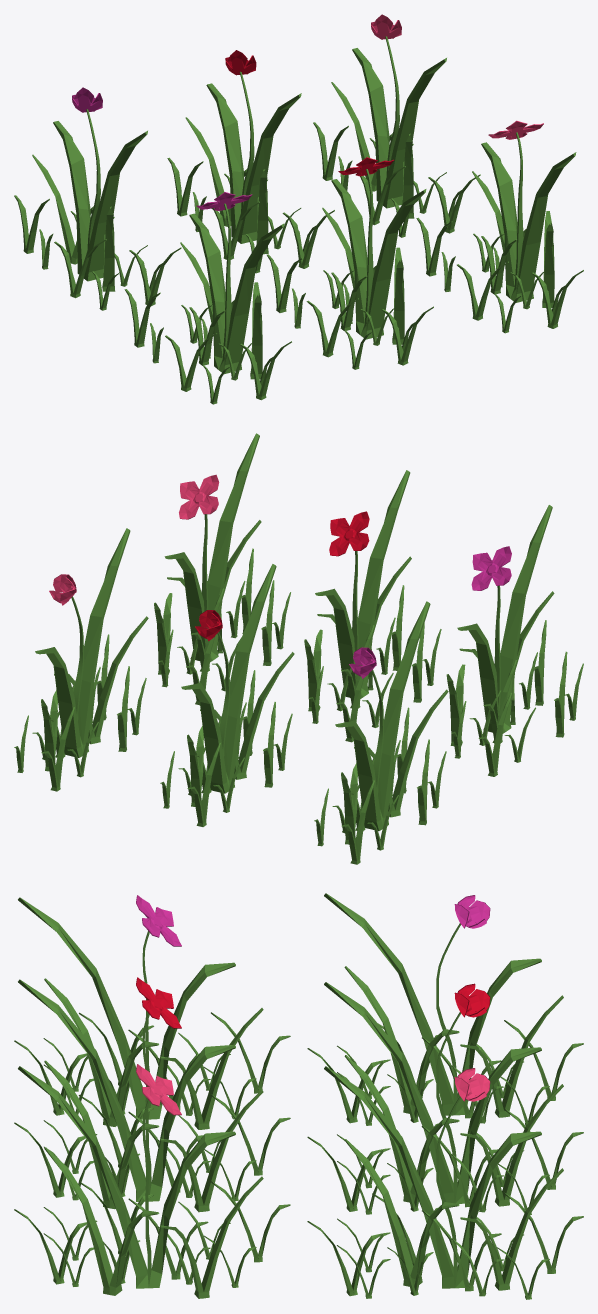
The model's file is SM_grass_flowers_DE.fbx.
3 views of the same model, one above another, from view 1: azimuth 30°, elevation 25°; view 2: azimuth 150°, elevation 25°; view 3: azimuth 270°, elevation 25° (orthographic). The views are drawn at different scales.
Parts seen in each view (by area): view 1: polySurface4, polySurface6, polySurface2, polySurface7, polySurface3, polySurface5; view 2: polySurface4, polySurface6, polySurface7, polySurface5, polySurface3, polySurface2; view 3: polySurface2, polySurface3, polySurface6, polySurface5, polySurface4, polySurface7.
Part boxes in pixels (x1,y1,x2,y2): polySurface4: (124, 192, 291, 404); polySurface6: (267, 157, 433, 369); polySurface2: (416, 120, 583, 333); polySurface7: (14, 87, 181, 310); polySurface3: (313, 14, 480, 237); polySurface5: (167, 50, 334, 273); polySurface4: (446, 505, 583, 776); polySurface6: (304, 470, 441, 742); polySurface7: (314, 601, 448, 864); polySurface5: (160, 564, 294, 826); polySurface3: (14, 528, 148, 791); polySurface2: (154, 433, 290, 705); polySurface2: (14, 1064, 290, 1298); polySurface3: (307, 1066, 583, 1299); polySurface6: (14, 977, 290, 1212); polySurface5: (307, 982, 583, 1215); polySurface4: (14, 895, 290, 1129); polySurface7: (307, 893, 583, 1125).
Size of the model in its own units: 6.33 by 2.92 by 6.82.
